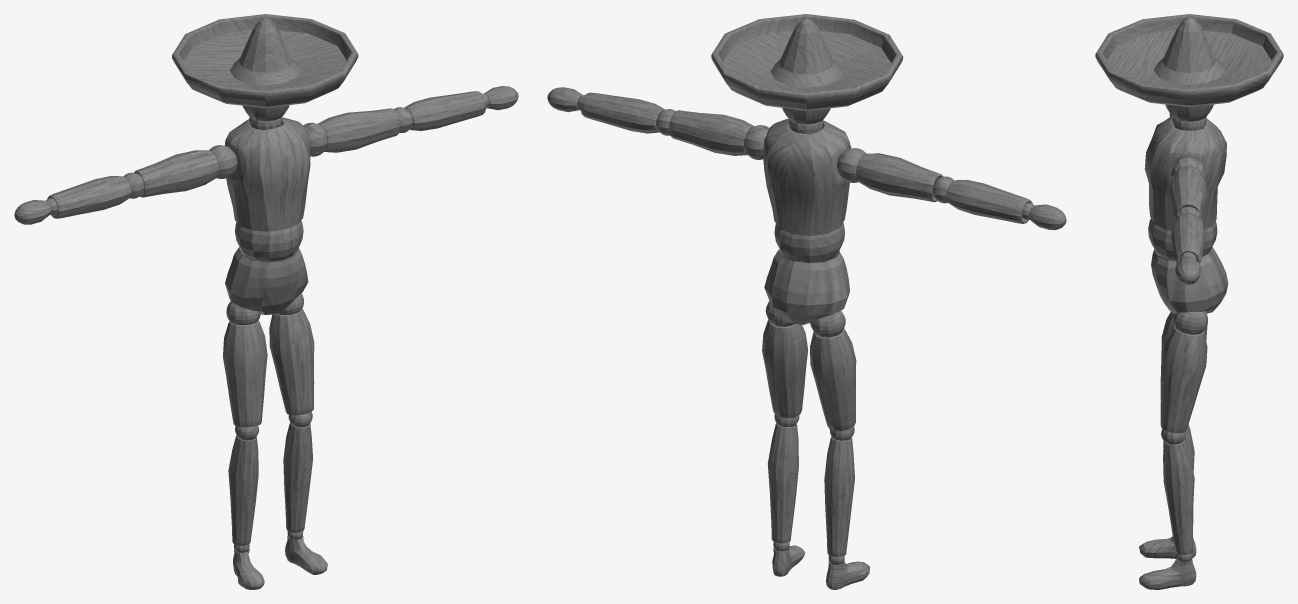
The model's file is JC_Mann_OBJ.obj.
3 renders of one model, left to right at view 1: azimuth 30°, elevation 25°; view 2: azimuth 150°, elevation 25°; view 3: azimuth 270°, elevation 25°, orthographic. The views are drawn at different scales.
Parts seen in each view (by area): view 1: pasted__hand_l; view 2: pasted__hand_l; view 3: pasted__hand_l.
Part boxes in pixels (bbox=[...]): pasted__hand_l: bbox=[14, 14, 518, 589]; pasted__hand_l: bbox=[547, 14, 1066, 589]; pasted__hand_l: bbox=[1095, 14, 1283, 589].
Bounding box in the file's own units: 33.73 × 35.13 × 10.85.
Materials: 1 (1 with a texture image).
